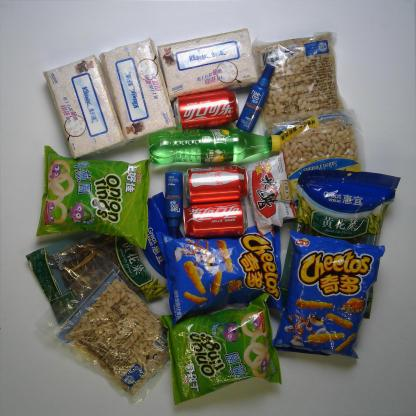Dried Food: (25, 191, 185, 336), (279, 168, 402, 320)
Dried Fruit: (30, 248, 172, 408), (262, 107, 367, 231), (250, 31, 348, 137)
Drink: (148, 126, 282, 166), (173, 88, 240, 132), (183, 164, 250, 206), (182, 200, 248, 240)
Personal Hygiene: (235, 63, 276, 133), (164, 171, 184, 239)
Puffed Food: (270, 229, 387, 360), (160, 292, 283, 406), (155, 222, 285, 329), (35, 144, 156, 250)
Seasoner: (239, 150, 298, 238)
Tissue: (41, 53, 126, 162), (97, 37, 176, 148), (156, 26, 259, 104)
